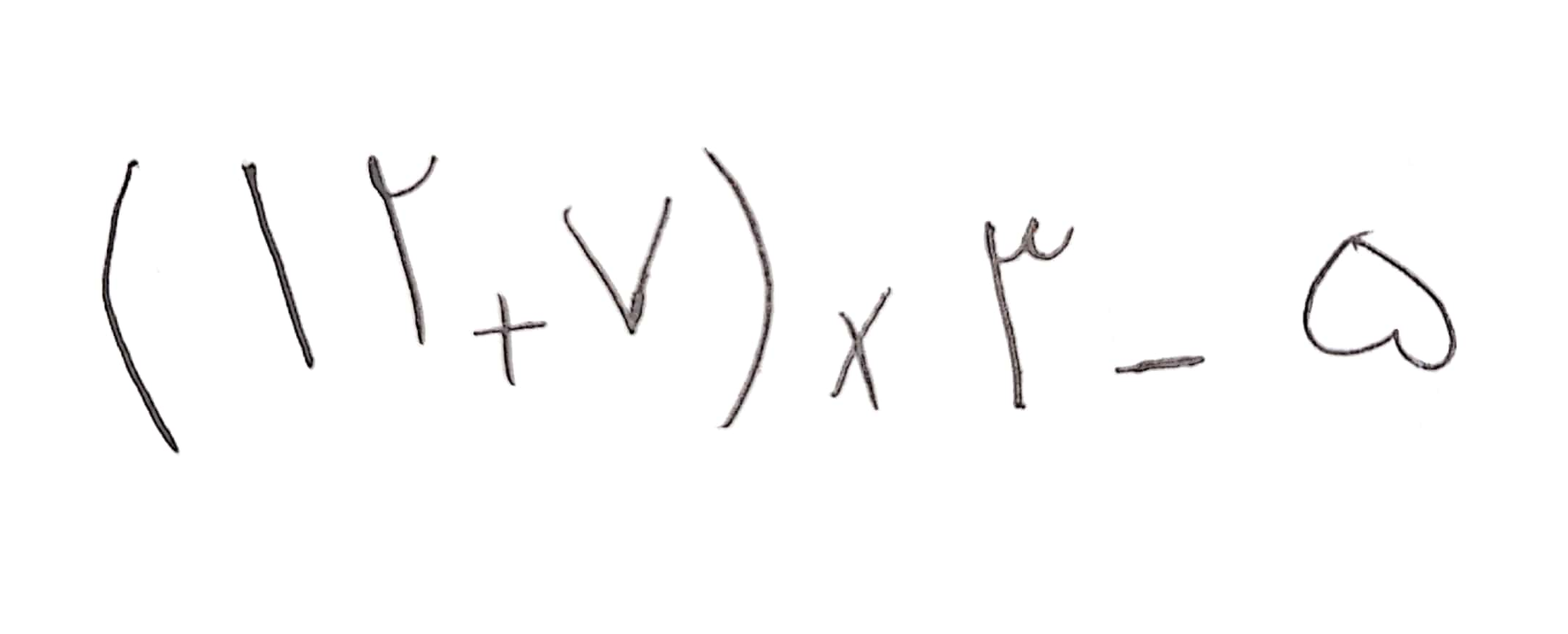character: (99, 158, 178, 452), (1303, 231, 1455, 364), (704, 147, 772, 429), (986, 216, 1076, 409), (240, 164, 314, 367), (563, 197, 670, 335), (369, 153, 436, 344), (830, 287, 892, 412), (471, 295, 545, 385), (1114, 355, 1203, 373)
